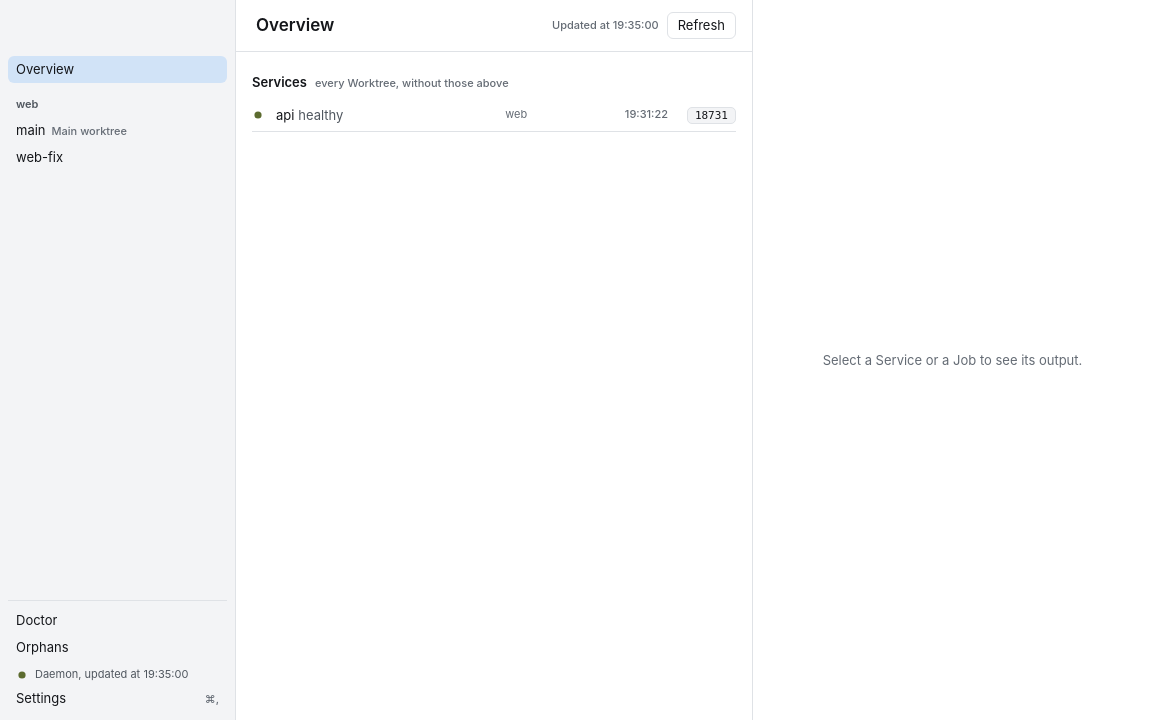
Test: the inspector › shows the backlog, then each line as it arrives, then the end
Later steps or results of the test are not shown.
Expected: the heading "Overview" is shown, x1=256 y1=13 x2=334 y2=38
Click the button "api healthy web 19:31:22". click: (321, 115)
box: x1=252 y1=106 x2=668 y2=125
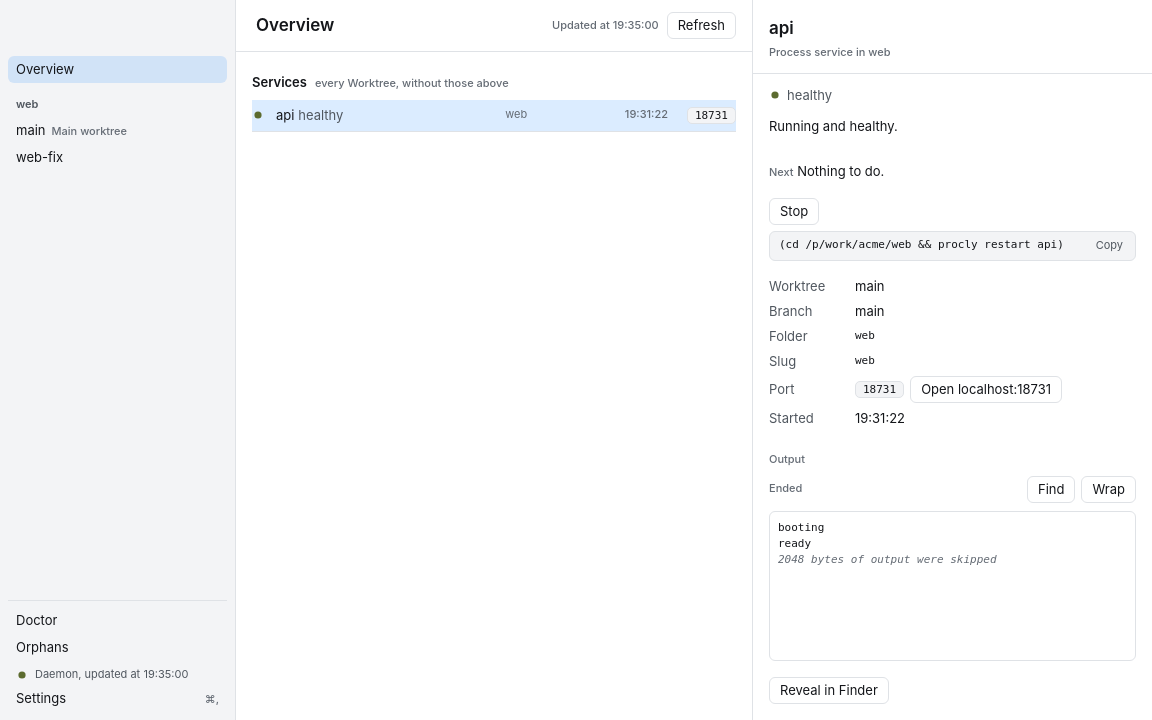
Now the message reads "Ended", box x1=769 y1=481 x2=802 y2=495
Now the element "output" shows "2048 bytes of output were skipped", box x1=778 y1=553 x2=996 y2=566
